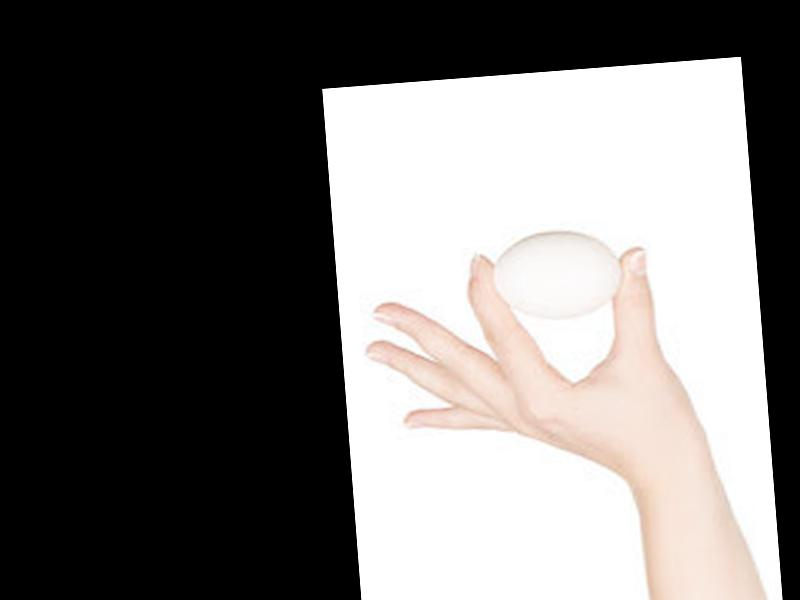Eggs: (489, 224, 624, 324)
